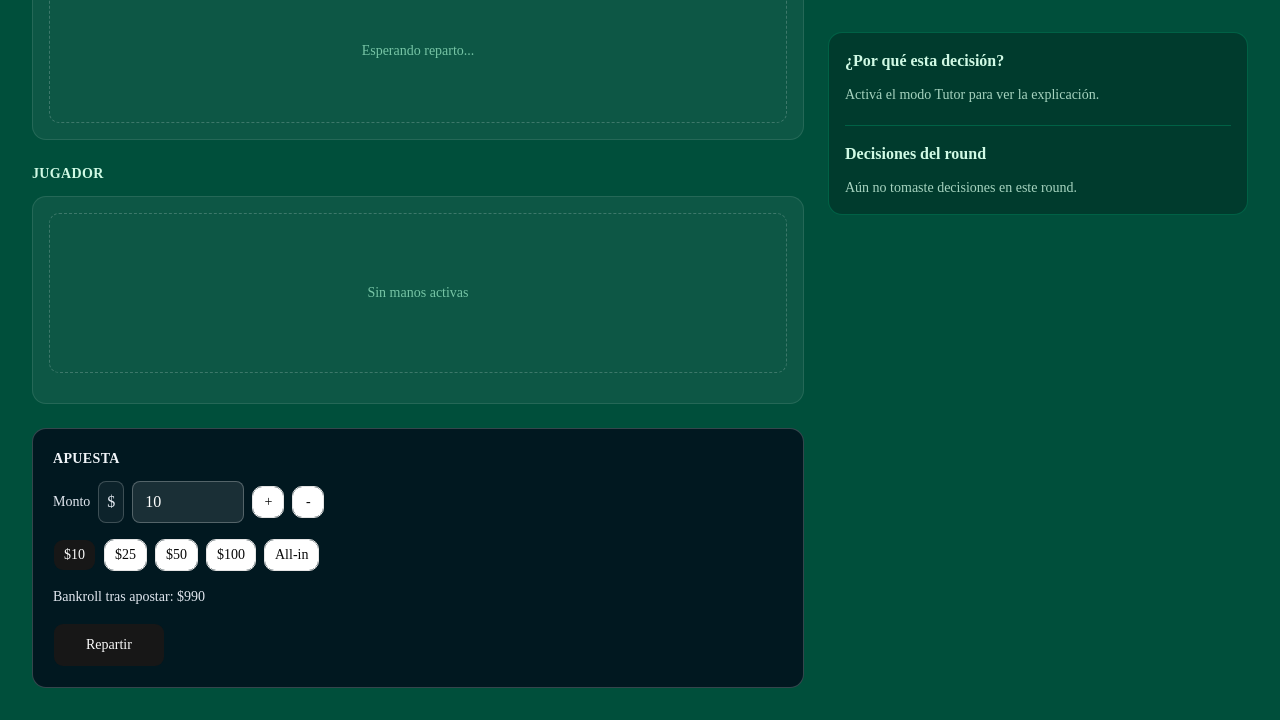
Test: Table › updates bankroll after deal
(page scrolled)
Click the button "Repartir".
click(109, 645)  # box left=53, top=623, right=165, bottom=667
(page scrolled)
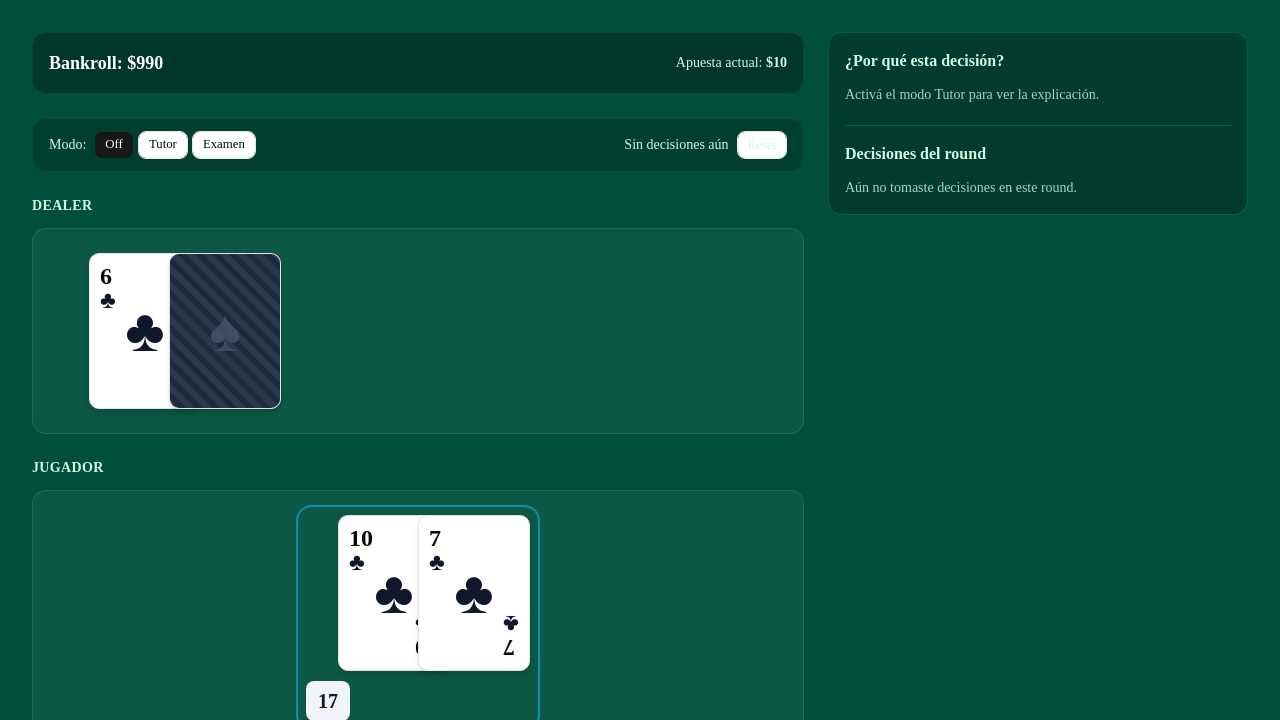
Now the text "Bankroll: $990" is shown, box left=49, top=49, right=163, bottom=77
